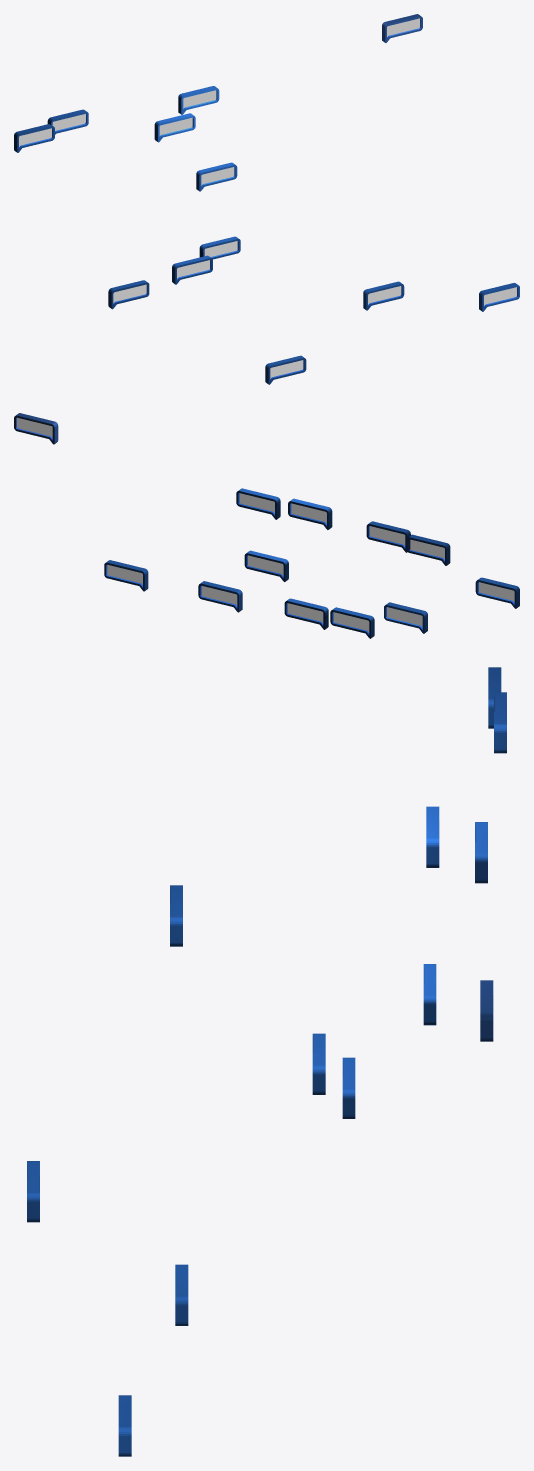
The model's file is pop_up_travel.glb.
The picture shows the model from 3 angles, top to bottom: view 1: azimuth 30°, elevation 25°; view 2: azimuth 150°, elevation 25°; view 3: azimuth 270°, elevation 25°; orthographic projection. The views are drawn at different scales.
Visible parts, largest first — view 1: pop_up_social_networks, pop_up_games, pop_up_running, pop_up_travel, pop_up_development, pop_up_share_knowledge, pop_up_contact_me, pop_up_languages, pop_up_photography_right, pop_up_art, pop_up_stereoscopy, pop_up_photography_left; view 2: pop_up_contact_me, pop_up_languages, pop_up_travel, pop_up_photography_right, pop_up_social_networks, pop_up_share_knowledge, pop_up_development, pop_up_stereoscopy, pop_up_games, pop_up_photography_left, pop_up_running, pop_up_art; view 3: no part large enough to name.
Boxes of the visible parts, x1=… form: pop_up_social_networks: x1=154, y1=113, x2=195, y2=142; pop_up_games: x1=108, y1=280, x2=149, y2=309; pop_up_running: x1=265, y1=355, x2=306, y2=384; pop_up_travel: x1=178, y1=86, x2=219, y2=114; pop_up_development: x1=196, y1=162, x2=237, y2=191; pop_up_share_knowledge: x1=363, y1=281, x2=404, y2=310; pop_up_contact_me: x1=172, y1=255, x2=212, y2=284; pop_up_languages: x1=382, y1=14, x2=422, y2=42; pop_up_photography_right: x1=479, y1=283, x2=519, y2=311; pop_up_art: x1=14, y1=124, x2=54, y2=152; pop_up_stereoscopy: x1=199, y1=236, x2=240, y2=259; pop_up_photography_left: x1=47, y1=109, x2=88, y2=134; pop_up_contact_me: x1=330, y1=607, x2=374, y2=638; pop_up_languages: x1=14, y1=413, x2=58, y2=444; pop_up_travel: x1=236, y1=488, x2=280, y2=519; pop_up_photography_right: x1=104, y1=560, x2=148, y2=591; pop_up_social_networks: x1=288, y1=498, x2=332, y2=529; pop_up_share_knowledge: x1=198, y1=581, x2=242, y2=612; pop_up_development: x1=244, y1=550, x2=288, y2=581; pop_up_stereoscopy: x1=284, y1=598, x2=328, y2=629; pop_up_games: x1=475, y1=577, x2=519, y2=608; pop_up_photography_left: x1=366, y1=521, x2=410, y2=552; pop_up_running: x1=384, y1=602, x2=427, y2=633; pop_up_art: x1=408, y1=534, x2=450, y2=565.
Size of the model in its own units: 35.1 by 18.2 by 17.78.
Materials: 12 (12 with a texture image).
